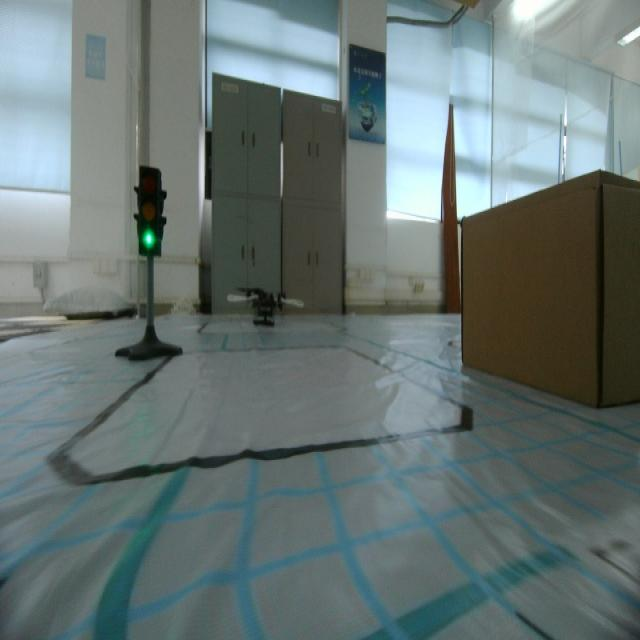green: (127, 164, 171, 269)
